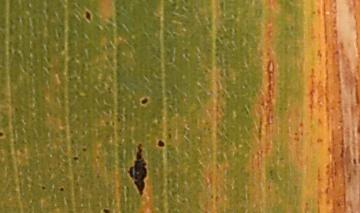tarspot: (128, 142, 148, 196), (83, 8, 92, 24), (139, 96, 149, 106), (157, 139, 165, 148), (54, 31, 62, 40), (355, 121, 360, 135), (80, 146, 88, 154), (39, 184, 46, 192), (71, 155, 79, 162), (166, 132, 173, 140), (115, 116, 122, 124), (12, 105, 19, 113), (334, 49, 341, 57), (170, 1, 177, 9), (351, 157, 357, 166), (101, 208, 111, 213), (58, 186, 65, 193), (94, 154, 101, 161), (289, 23, 294, 32), (69, 137, 74, 146), (110, 120, 116, 127), (104, 119, 110, 126), (298, 120, 304, 127), (335, 202, 342, 208), (310, 9, 315, 17), (68, 128, 73, 136), (265, 51, 271, 57), (1, 130, 5, 138), (171, 31, 176, 37), (182, 1, 189, 5)
